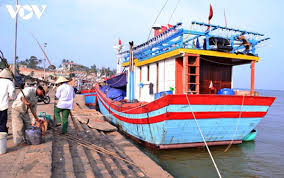tau_dansu: (89, 48, 272, 148)
